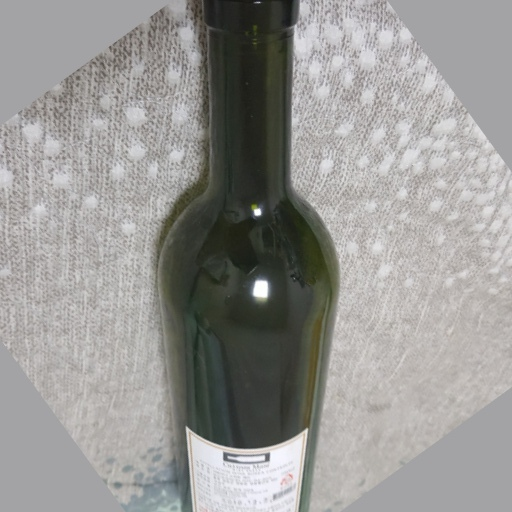Glass_2: (149, 1, 342, 512)
